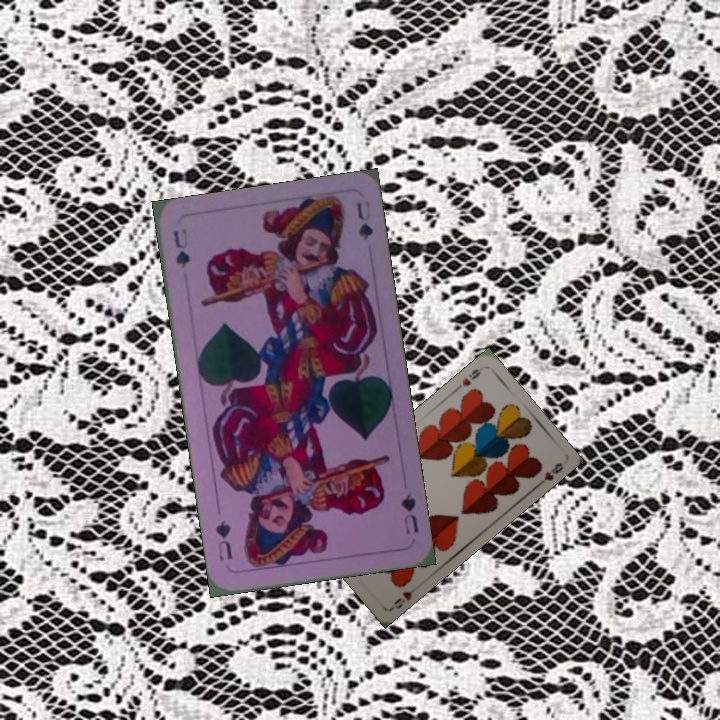GU: (396, 490, 422, 537), (169, 225, 193, 272)
H9: (451, 364, 484, 394), (390, 587, 415, 611)
